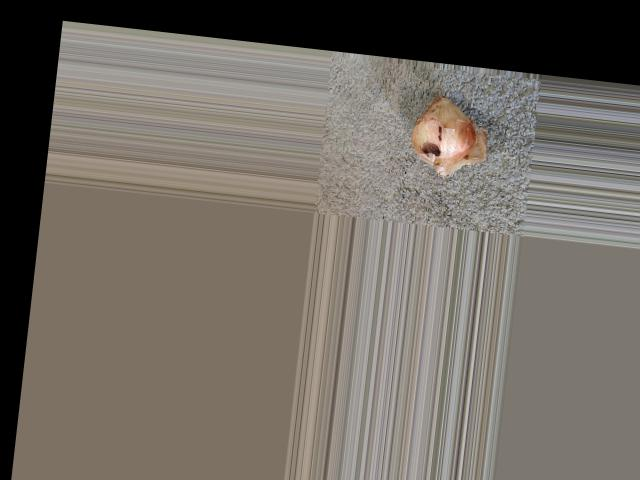onion: (406, 96, 479, 169)
